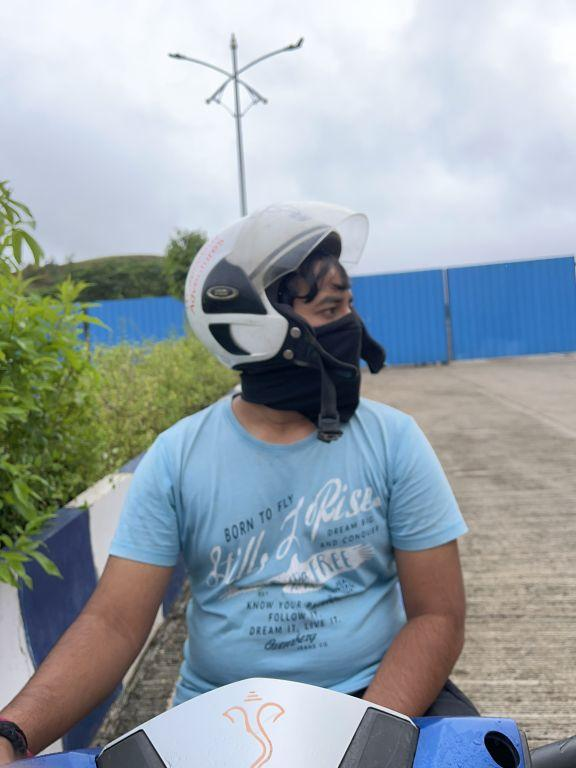helmet: (177, 200, 374, 372)
